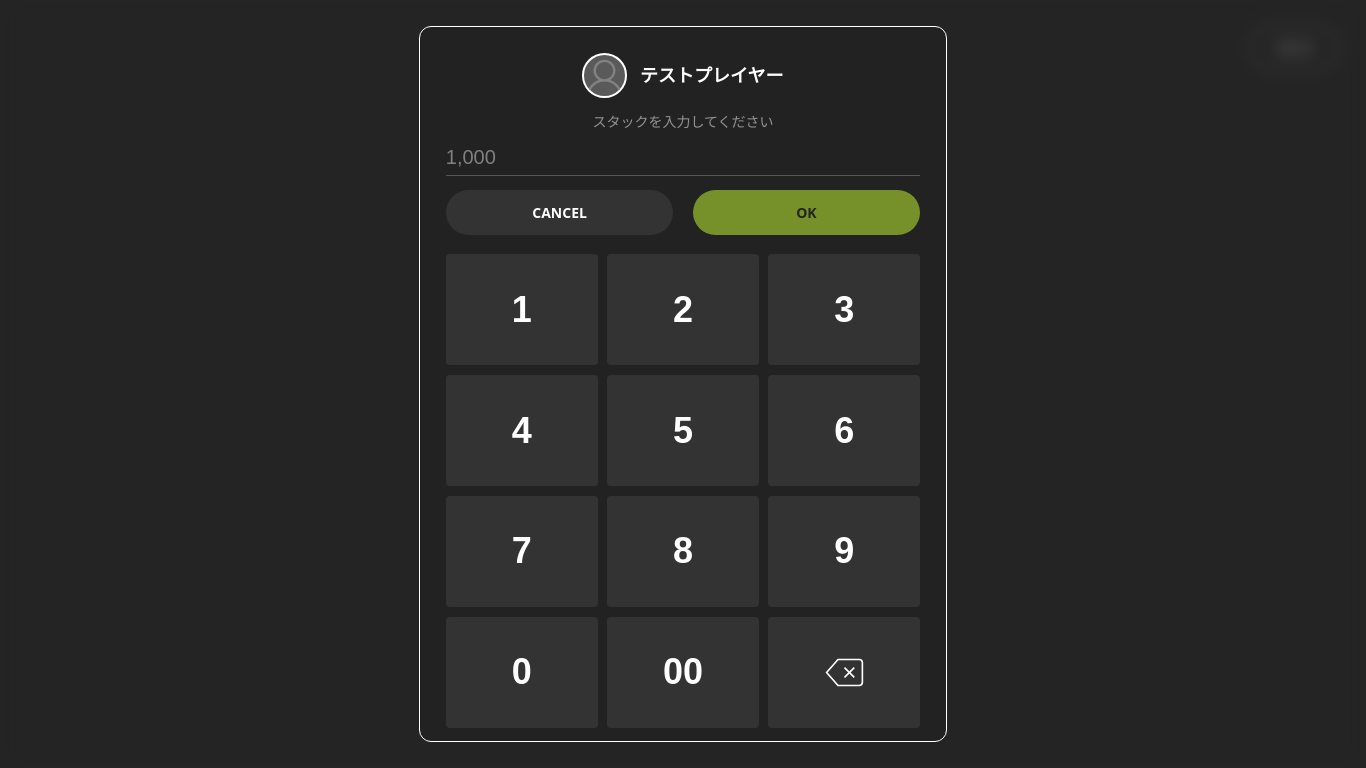
Test case: CheckIn › 座席選択ステップ › 座席選択ステップでボードが表示される
Expected: the text "スタックを入力してください" is shown, x1=592 y1=112 x2=774 y2=131
Click the button "1" at [522, 310], box x1=446 y1=254 x2=598 y2=365
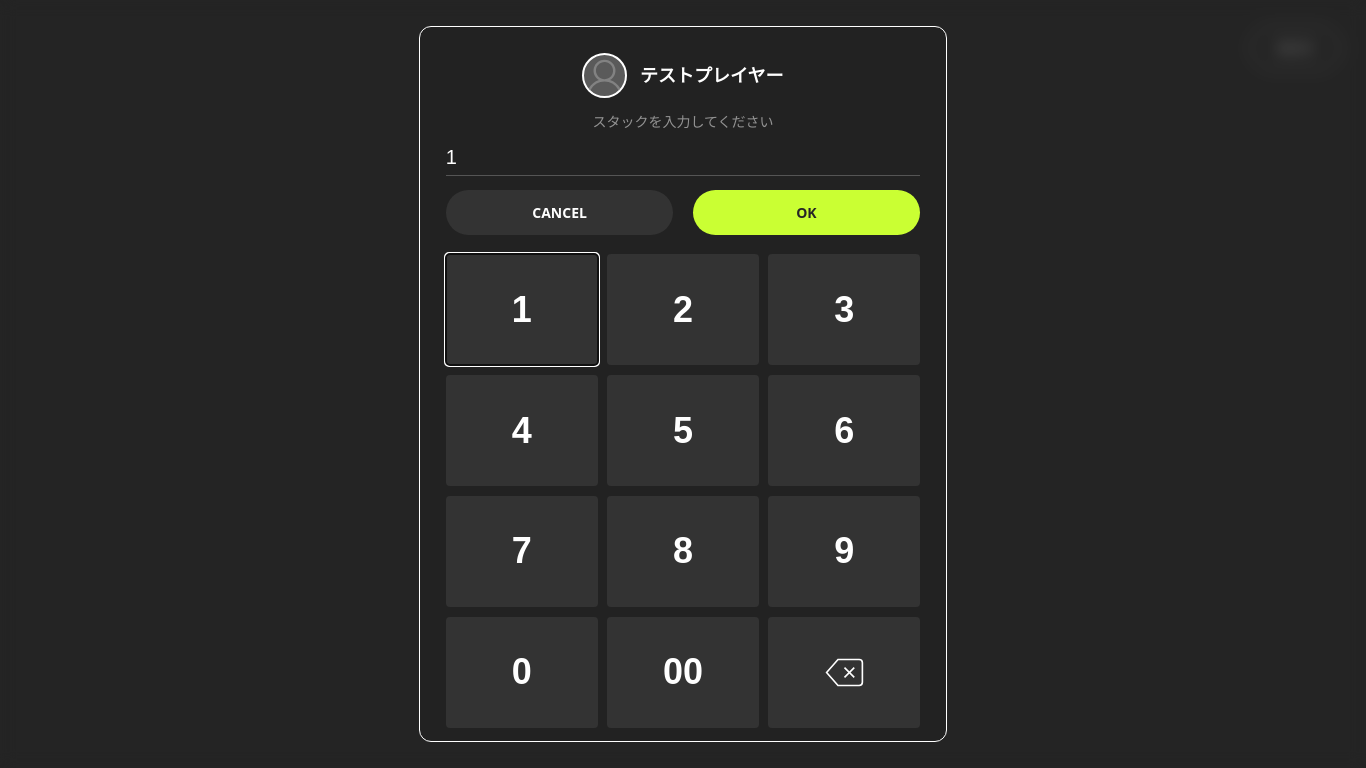
Click the button "OK" at [806, 213], box x1=693 y1=190 x2=920 y2=235
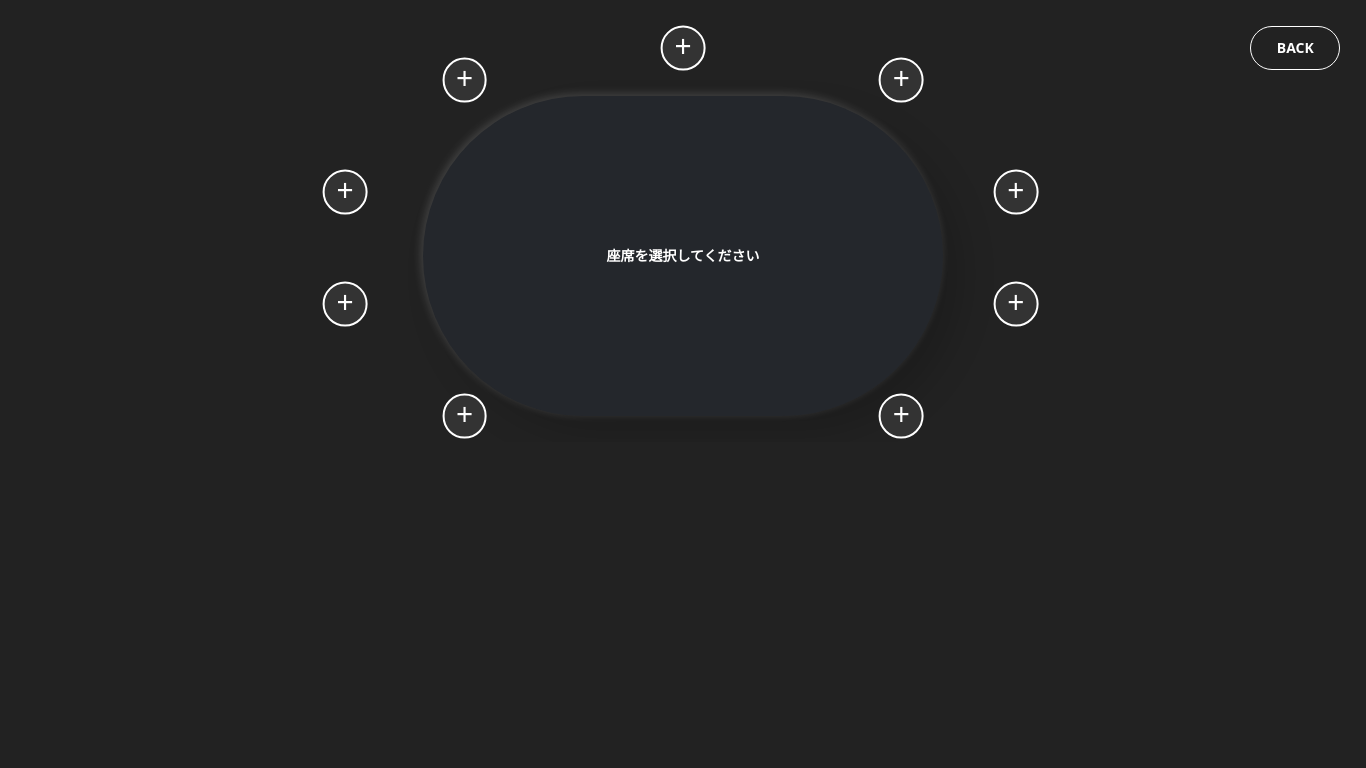
Now the text "座席を選択してください" is shown, box x1=606 y1=246 x2=760 y2=266
